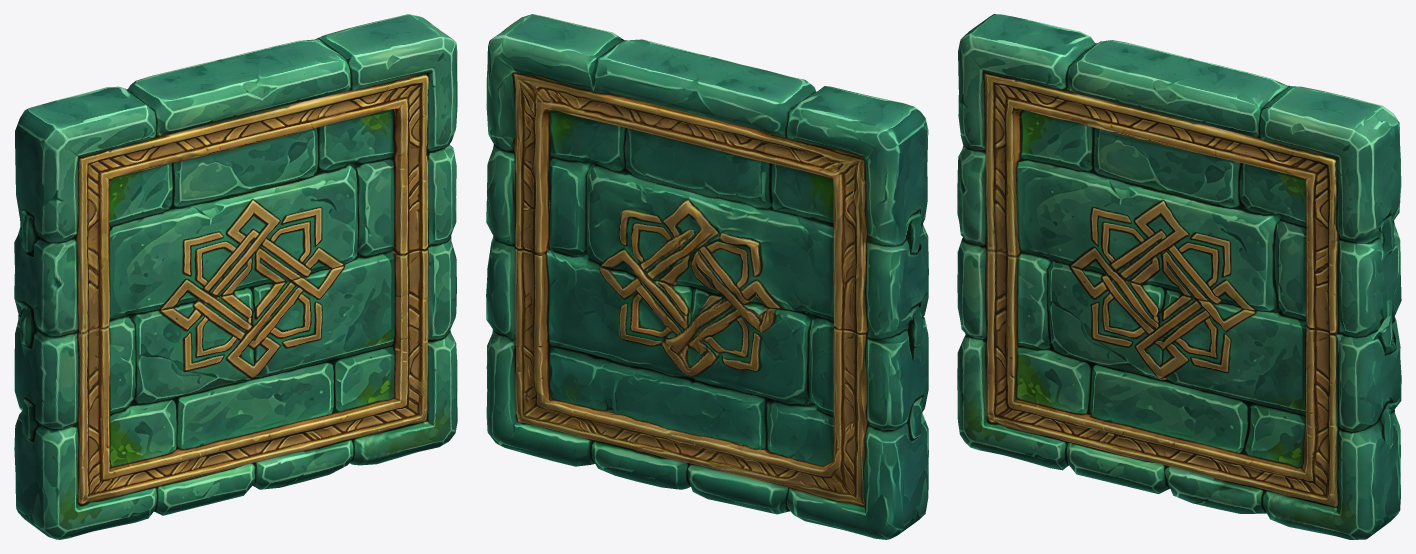
File: temple-wall-CxuN1_sb.glb
3 views of the same model, side by side, from view 1: azimuth 30°, elevation 25°; view 2: azimuth 150°, elevation 25°; view 3: azimuth 330°, elevation 25° (orthographic).
Visible parts, largest first — view 1: StraightTempleWall; view 2: StraightTempleWall; view 3: StraightTempleWall.
Part boxes in pixels (box(x1,y1,x2,y2)): StraightTempleWall: box(14, 14, 457, 539); StraightTempleWall: box(486, 14, 928, 539); StraightTempleWall: box(957, 14, 1401, 539).
Size of the model in its own units: 3.23 by 3 by 0.5329.
Materials: 1 (1 with a texture image).
